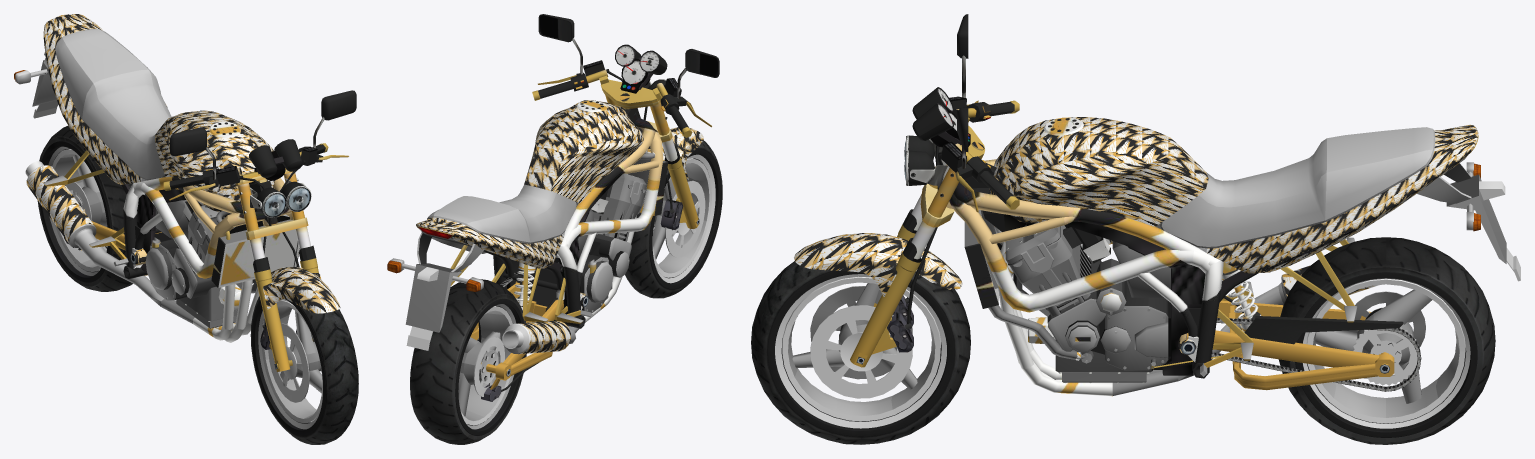
File: SuperMotors_3_.fbx
3 renders of one model, left to right at view 1: azimuth 30°, elevation 25°; view 2: azimuth 150°, elevation 25°; view 3: azimuth 270°, elevation 25°, orthographic. The views are drawn at different scales.
Parts seen in each view (by area): view 1: SuperMotors_3_010, SuperMotors_3_003, SuperMotors_3_001, SuperMotors_3_011, SuperMotors_3_013, SuperMotors_3_009, SuperMotors_3_012, SuperMotors_3_016, SuperMotors_3_017, SuperMotors_3_002, SuperMotors_3_019, SuperMotors_3_020 (+3 smaller); view 2: SuperMotors_3_010, SuperMotors_3_001, SuperMotors_3_003, SuperMotors_3_011, SuperMotors_3_002, SuperMotors_3_017, SuperMotors_3_013, SuperMotors_3_015, SuperMotors_3_009, SuperMotors_3_012, SuperMotors_3_016, SuperMotors_3_020 (+1 smaller); view 3: SuperMotors_3_010, SuperMotors_3_001, SuperMotors_3_003, SuperMotors_3_011, SuperMotors_3_015, SuperMotors_3_013, SuperMotors_3_012, SuperMotors_3_002, SuperMotors_3_017, SuperMotors_3_016, SuperMotors_3_009, SuperMotors_3_014.
Part boxes in pixels (x1,y1,x2,y2): SuperMotors_3_010: (43,14,299,342); SuperMotors_3_003: (250,296,358,444); SuperMotors_3_001: (37,126,133,291); SuperMotors_3_011: (122,151,293,278); SuperMotors_3_013: (253,232,340,371); SuperMotors_3_009: (25,161,194,323); SuperMotors_3_012: (121,139,302,273); SuperMotors_3_016: (235,169,310,260); SuperMotors_3_017: (163,143,348,225); SuperMotors_3_002: (15,51,58,118); SuperMotors_3_019: (170,127,215,179); SuperMotors_3_020: (313,90,356,148); SuperMotors_3_010: (416,100,668,323); SuperMotors_3_001: (410,279,526,444); SuperMotors_3_003: (625,140,722,298); SuperMotors_3_011: (483,59,663,328); SuperMotors_3_002: (389,232,483,350); SuperMotors_3_017: (532,60,711,137); SuperMotors_3_013: (646,127,703,229); SuperMotors_3_015: (470,262,563,401); SuperMotors_3_009: (502,316,585,354); SuperMotors_3_012: (505,44,667,314); SuperMotors_3_016: (602,89,677,161); SuperMotors_3_020: (538,14,582,74); SuperMotors_3_010: (964,117,1478,396); SuperMotors_3_001: (1278,237,1495,444); SuperMotors_3_003: (751,261,970,444); SuperMotors_3_011: (930,112,1258,378); SuperMotors_3_015: (1211,266,1421,391); SuperMotors_3_013: (794,209,962,367); SuperMotors_3_012: (912,87,1255,375); SuperMotors_3_002: (1417,162,1520,281); SuperMotors_3_017: (935,96,1019,212); SuperMotors_3_016: (911,141,984,259); SuperMotors_3_009: (1112,265,1379,395); SuperMotors_3_014: (906,135,953,197).
Size of what is drawn, in the model's own units: 57.14 by 86.85 by 162.
